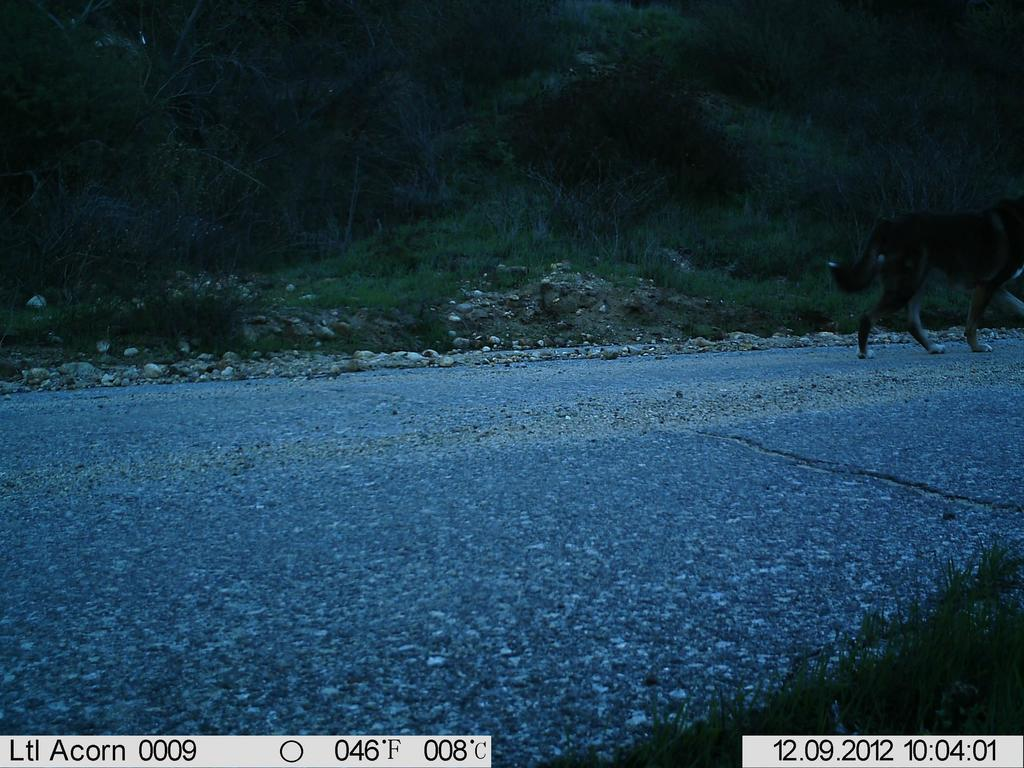dog: (825, 194, 1022, 364)
